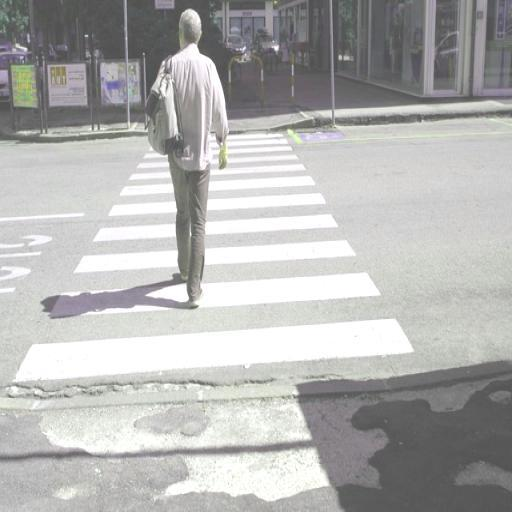crosswalk: (40, 230, 398, 320), (113, 160, 321, 200)
